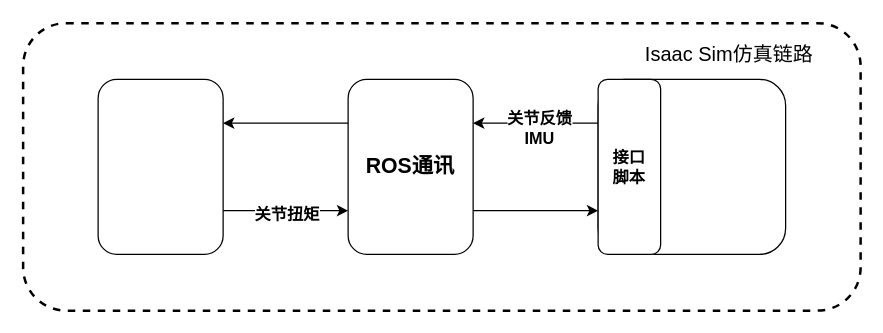
The diagram is 883 pixels wide and 333 high, and some of its shapes have lost their labels. The box of each missing label's shape, as (x1, y1, x2, y2) in pixels:
Isaac Sim usd模型: (597, 78, 786, 254)
控制算法 LQR VMC: (97, 78, 223, 254)
